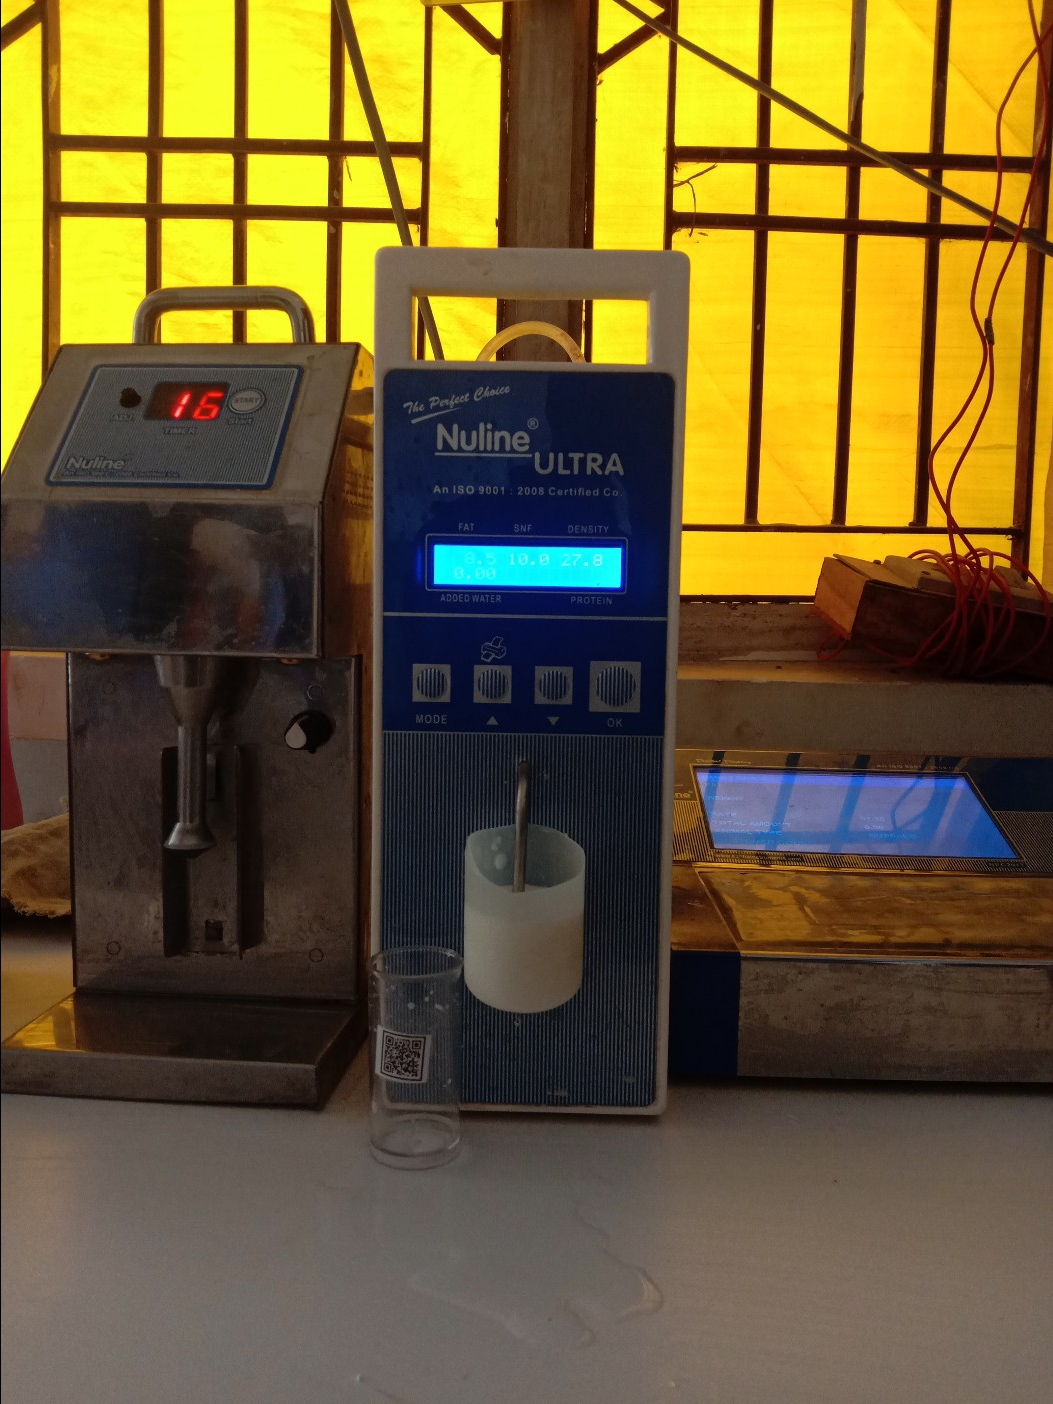lcd: (429, 535, 623, 595)
qr: (371, 1027, 429, 1088)
